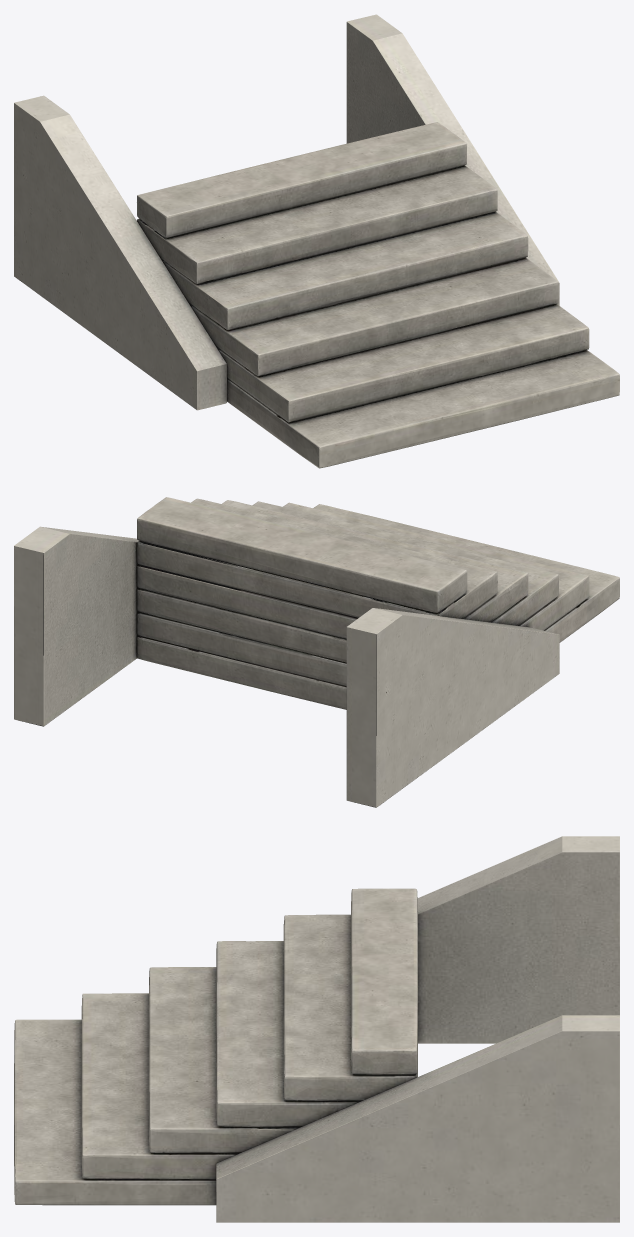
Rendered from acropole_escadaria.glb.
The picture shows the model from 3 angles, top to bottom: view 1: azimuth 30°, elevation 25°; view 2: azimuth 150°, elevation 25°; view 3: azimuth 270°, elevation 25°; orthographic projection. The views are drawn at different scales.
Parts seen in each view (by area): view 1: acropole_escadaria_tronco; view 2: acropole_escadaria_tronco; view 3: acropole_escadaria_tronco.
Boxes of the visible parts, bbox=[...] form: acropole_escadaria_tronco: bbox=[14, 14, 619, 468]; acropole_escadaria_tronco: bbox=[14, 497, 619, 807]; acropole_escadaria_tronco: bbox=[14, 836, 619, 1222].
Bounding box in the file's own units: 4.8 × 2.21 × 6.3.
Materials: 1 (1 with a texture image).
